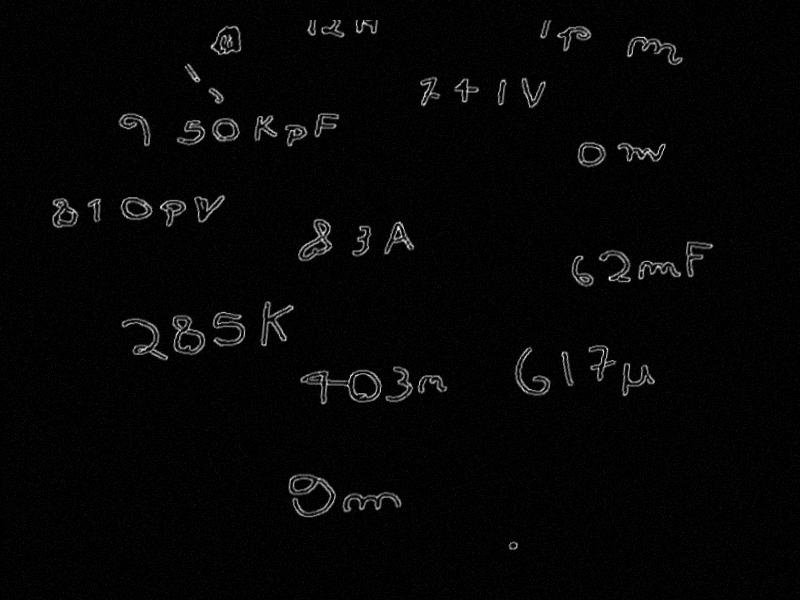0: (341, 367, 387, 405), (571, 139, 609, 170), (115, 195, 157, 222), (206, 115, 245, 144)
1: (555, 351, 579, 388), (83, 196, 106, 224), (494, 76, 510, 107), (537, 20, 554, 41), (305, 20, 319, 38)
2: (113, 314, 175, 361), (592, 247, 637, 284), (314, 20, 350, 39)
3: (381, 363, 419, 406), (347, 223, 376, 260)
4: (292, 368, 352, 406), (448, 76, 487, 110)
5: (204, 309, 251, 350), (171, 116, 209, 148)
6: (506, 343, 559, 397), (564, 254, 600, 289)
7: (581, 342, 620, 383), (415, 75, 444, 108)
8: (292, 216, 339, 265), (163, 312, 211, 357), (49, 194, 85, 232)
9: (280, 472, 342, 520), (114, 110, 157, 147)
A: (382, 220, 419, 256)
F: (681, 240, 715, 277), (311, 110, 343, 135)
V: (190, 195, 228, 224), (514, 77, 547, 109)
k: (254, 298, 297, 348), (249, 113, 282, 144)
m: (623, 34, 687, 67), (339, 489, 404, 515), (613, 140, 670, 163), (635, 258, 686, 281)
n: (413, 372, 453, 397)
p: (554, 24, 594, 52), (155, 197, 190, 228), (280, 122, 311, 149)
u: (616, 360, 658, 400), (351, 20, 383, 35)
